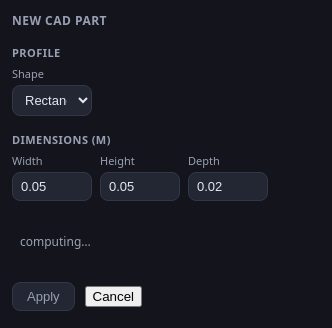
CadExtrudeCreator › switching to circle swaps width/height for radius
Select "Circle" in the dropdown named "cad profile": {"x": 52, "y": 100} [12, 85, 92, 116]
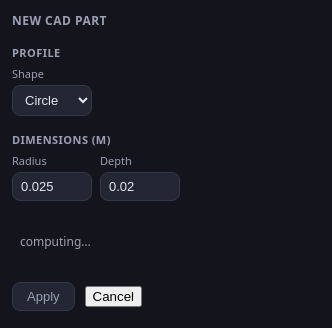
Expected: the number field named "cad radius" is shown, [12, 172, 92, 201]
Expected: the number field labelled "cad height" is gone
